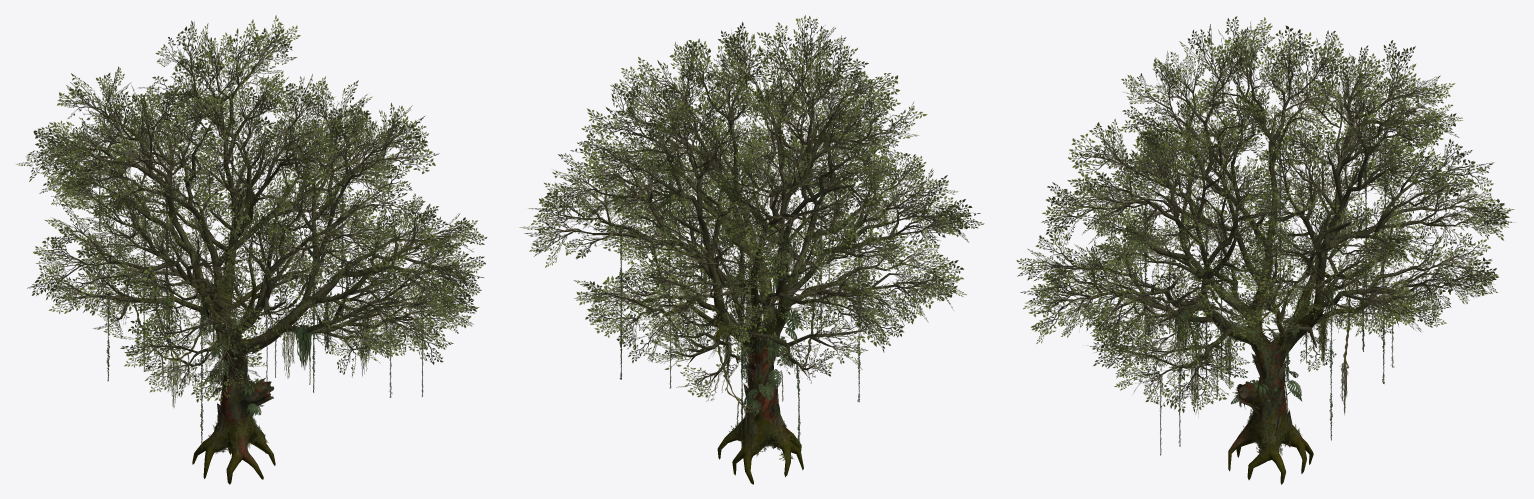
Rendered from tree_gn.glb.
3 renders of one model, left to right at view 1: azimuth 30°, elevation 25°; view 2: azimuth 150°, elevation 25°; view 3: azimuth 270°, elevation 25°, orthographic. The views are drawn at different scales.
Parts seen in each view (by area): view 1: TreeGen; view 2: TreeGen; view 3: TreeGen.
Part boxes in pixels (x1,y1,x2,y2): TreeGen: (16,15,487,484); TreeGen: (519,15,984,484); TreeGen: (1016,16,1514,484).
Size of the model in its own units: 21.13 by 22.48 by 24.06.
6 materials, 6 textured.
